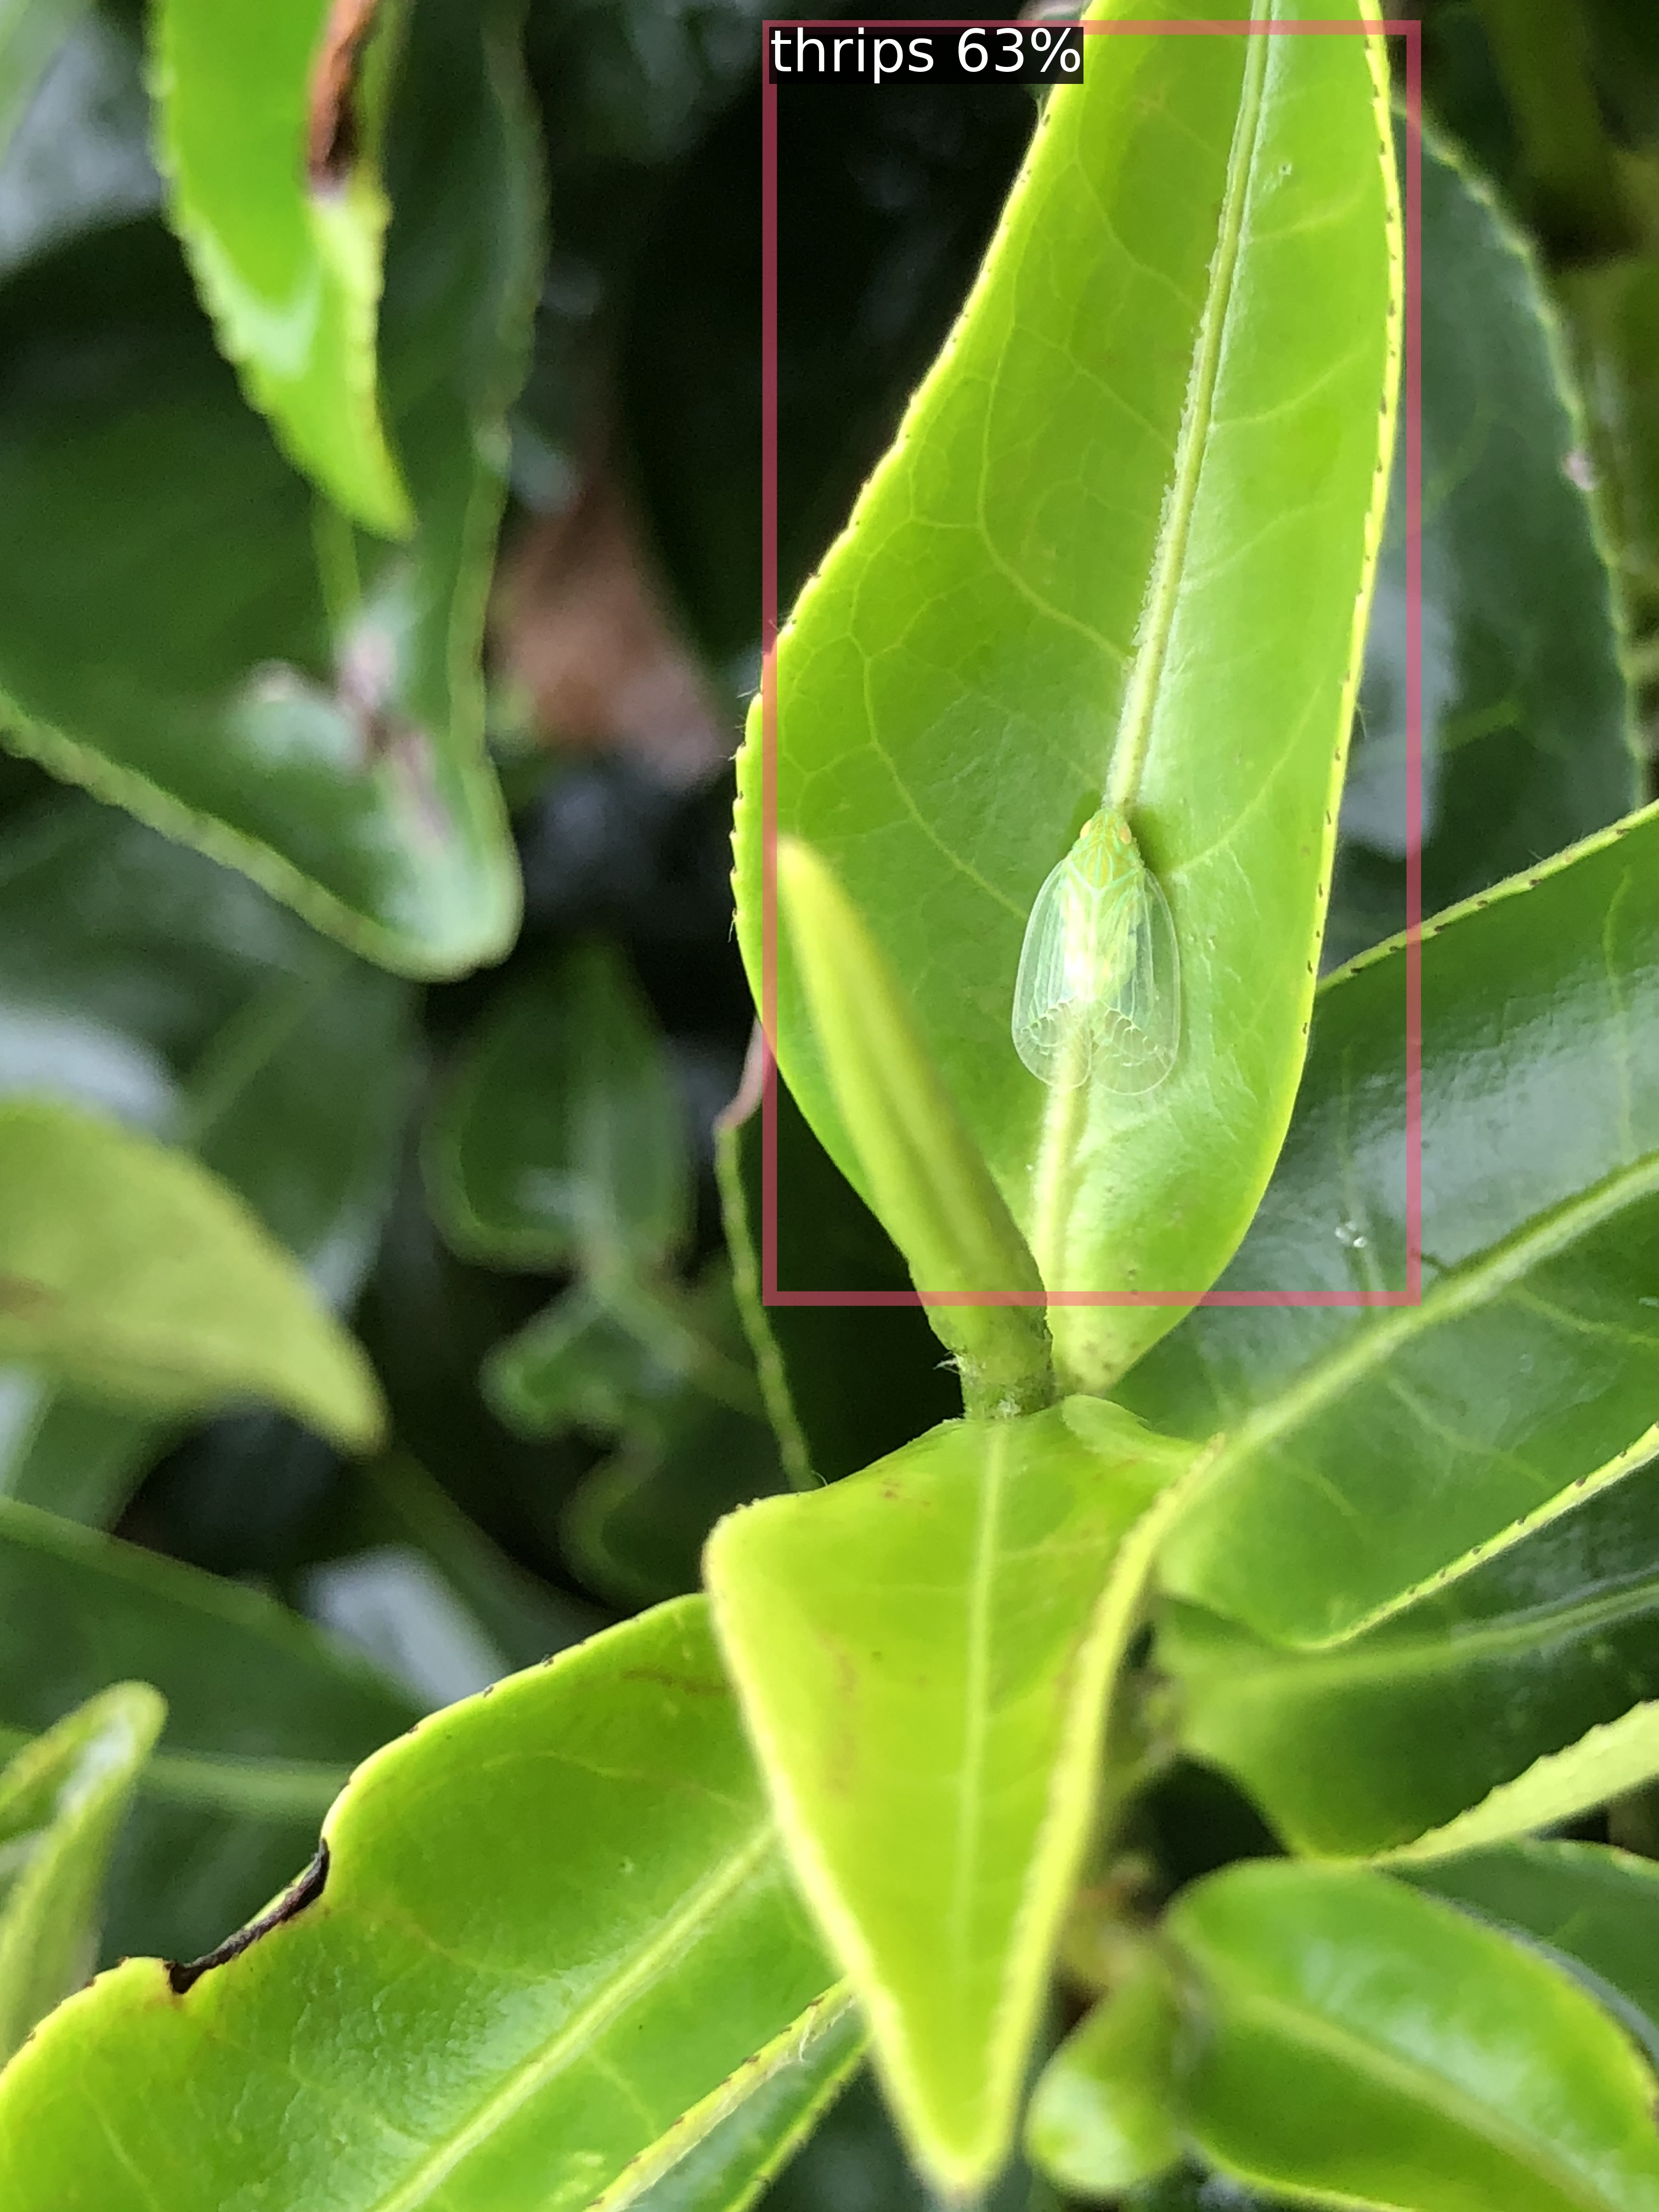thrips: (770, 26, 1413, 1298)
